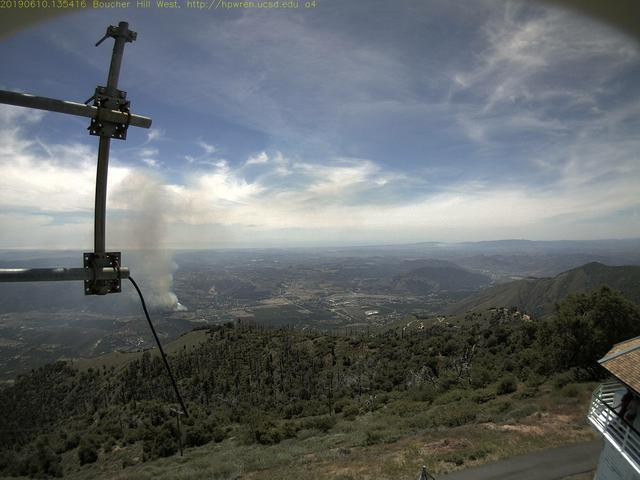smoke: (115, 172, 187, 312)
